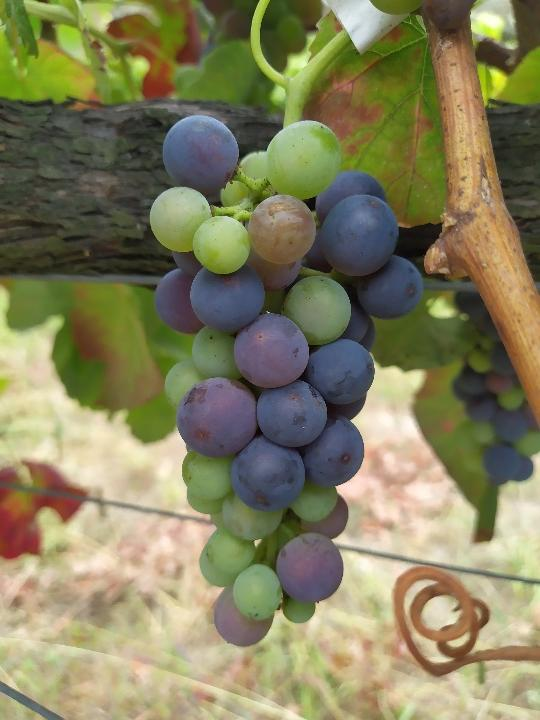grape: (146, 110, 425, 649)
